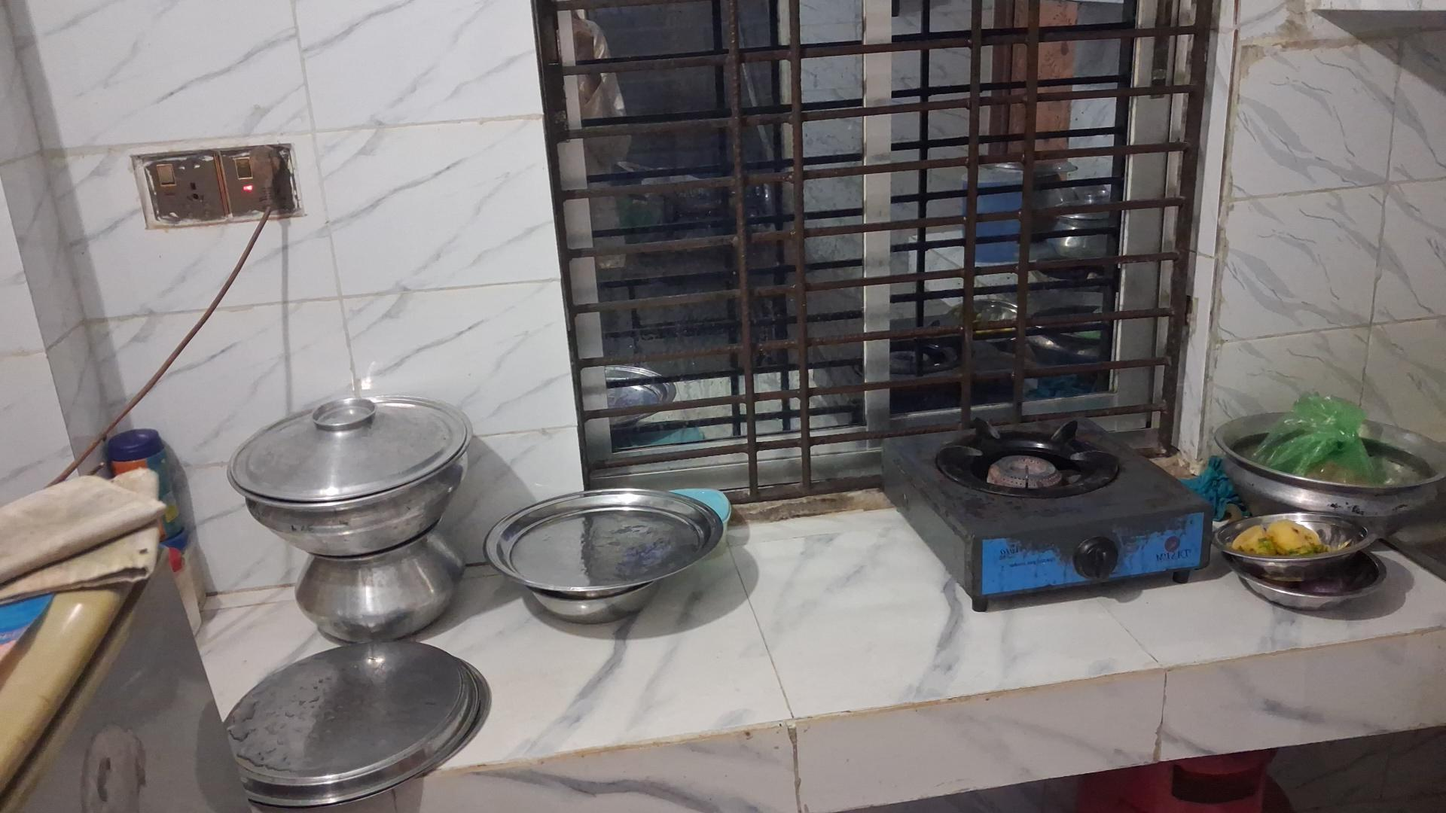Bowl: (1219, 510, 1375, 576), (1235, 558, 1389, 611)
Plate: (210, 646, 489, 810), (484, 491, 722, 592)
Pot: (225, 394, 470, 553), (1214, 406, 1444, 524), (290, 548, 468, 646)
